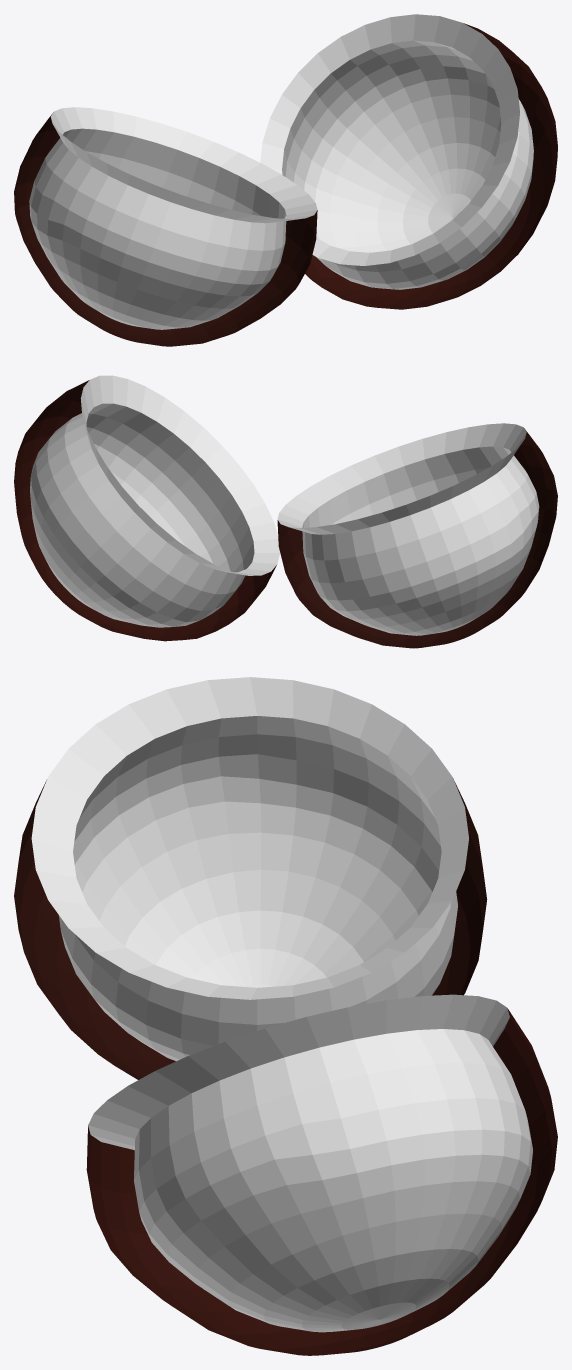
Rendered from cocco.fbx.
3 views of the same model, one above another, from view 1: azimuth 30°, elevation 25°; view 2: azimuth 150°, elevation 25°; view 3: azimuth 270°, elevation 25° (orthographic). The views are drawn at different scales.
Visible parts, largest first — view 1: Sphere.001, Sphere; view 2: Sphere.001, Sphere; view 3: Sphere, Sphere.001.
Part boxes in pixels (x1,y1,x2,y2): Sphere.001: [260, 14, 557, 309]; Sphere: [14, 107, 317, 346]; Sphere.001: [14, 375, 280, 641]; Sphere: [277, 423, 557, 648]; Sphere: [14, 677, 487, 1079]; Sphere.001: [86, 994, 557, 1355].
Size of the model in its own units: 393 by 182 by 230.
